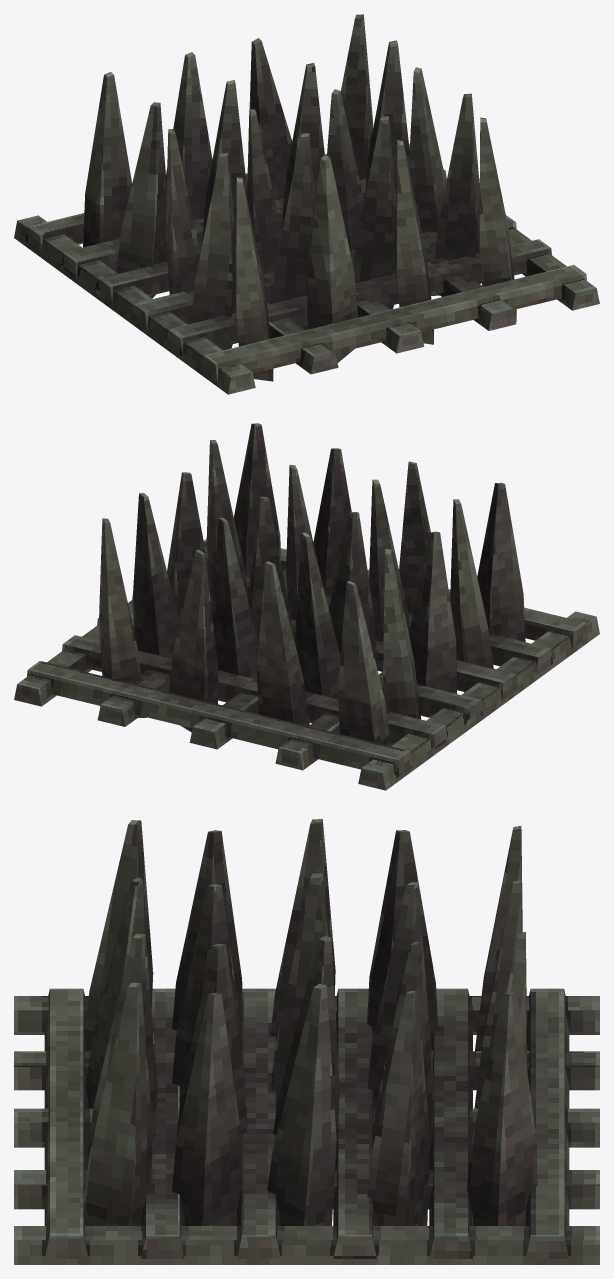
Rendered from spikes-2.glb.
3 renders of one model, top to bottom at view 1: azimuth 30°, elevation 25°; view 2: azimuth 150°, elevation 25°; view 3: azimuth 270°, elevation 25°, orthographic. The views are drawn at different scales.
Parts seen in each view (by area): view 1: Spikes_2; view 2: Spikes_2; view 3: Spikes_2.
Boxes of the visible parts, x1,y1,x2,y2 form: Spikes_2: (14, 14, 599, 394); Spikes_2: (14, 423, 599, 790); Spikes_2: (14, 819, 599, 1264).
Size of the model in its own units: 3.03 by 1.53 by 3.02.
Materials: 1 (1 with a texture image).
